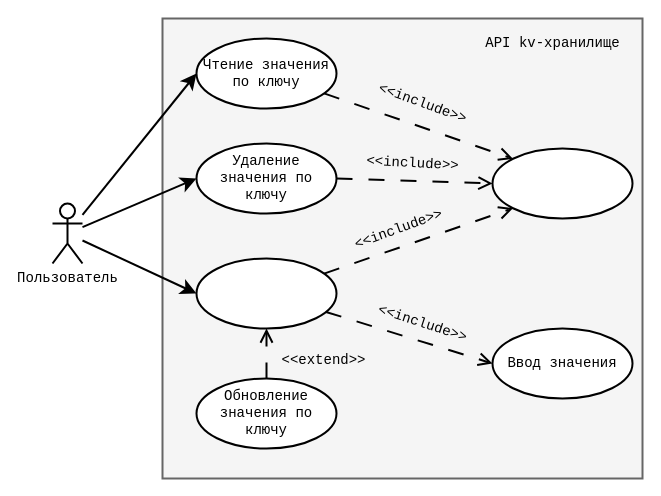
Image size: 661x496. Some labels were removed from this diagram. The centre of each missing label's shape, as x and y in pixels:
Ввод ключа: the point at 562,183
Создание пары ключ-значение: the point at 266,293
